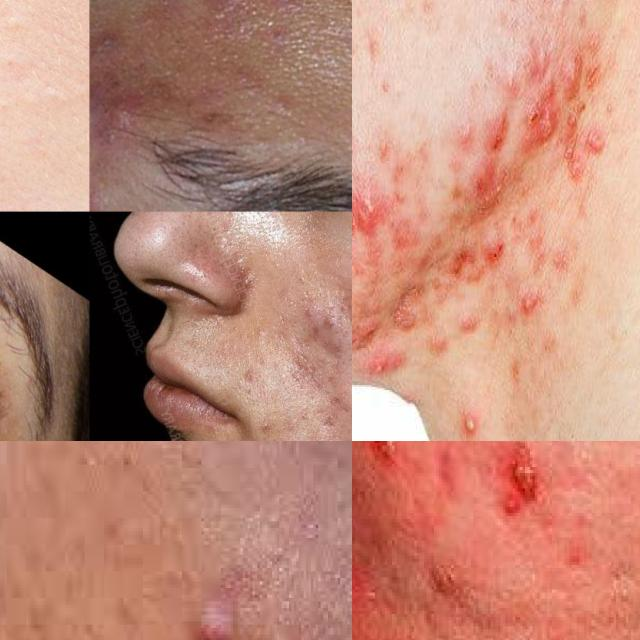acne_scars: (561, 36, 604, 108), (382, 276, 425, 332), (385, 208, 417, 260)
comedone: (0, 92, 55, 194), (309, 307, 341, 338)
cystic: (184, 584, 242, 640), (89, 80, 112, 140)
milium: (252, 246, 290, 287)
papule: (485, 441, 559, 543), (352, 546, 372, 640), (420, 318, 453, 364), (90, 162, 116, 212), (518, 279, 545, 322), (456, 304, 484, 337)
pustule: (453, 397, 486, 441), (191, 0, 253, 19)
sebo-crystan-conglo: (458, 94, 511, 223), (440, 225, 522, 287), (353, 331, 418, 390), (518, 78, 561, 162), (352, 176, 384, 262), (584, 110, 618, 162)
